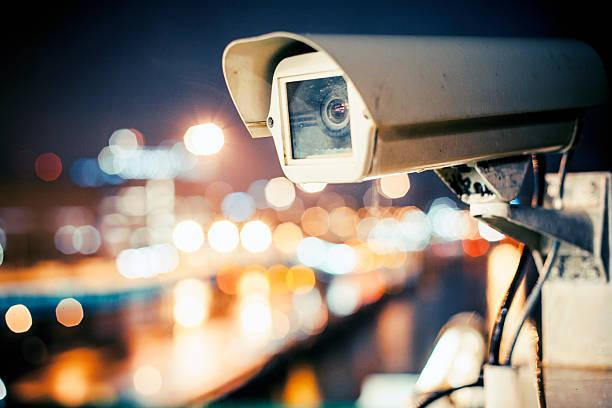camera: (198, 11, 612, 197)
